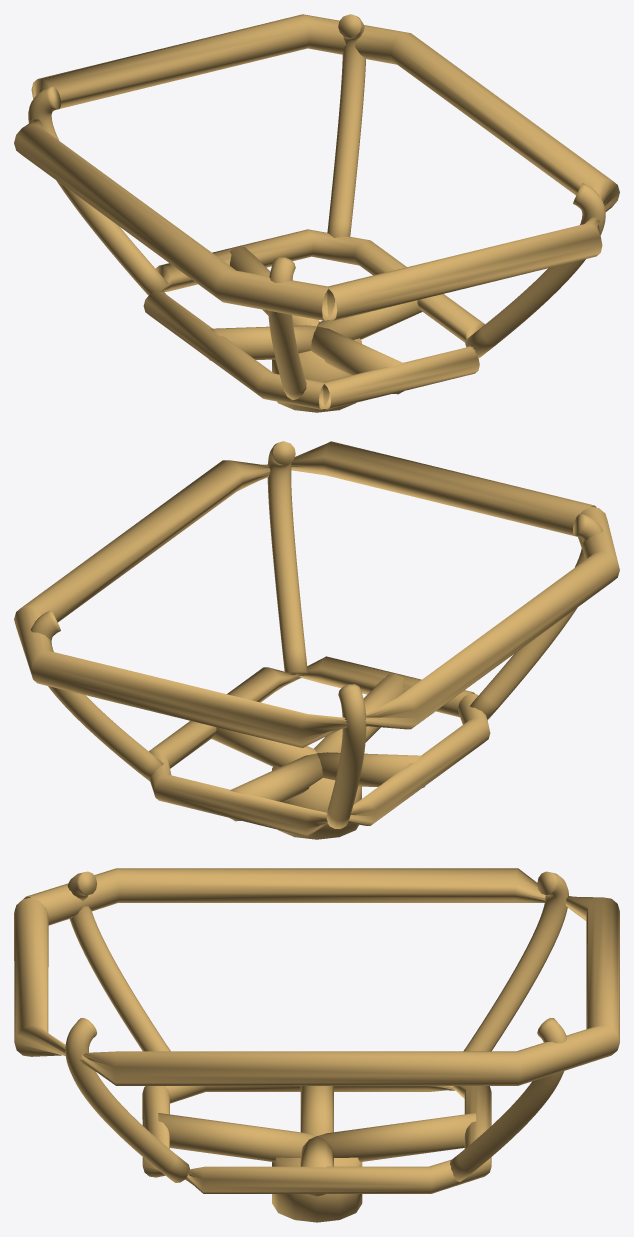
File: demo-emerald-bezel.glb
3 views of the same model, one above another, from view 1: azimuth 30°, elevation 25°; view 2: azimuth 150°, elevation 25°; view 3: azimuth 270°, elevation 25° (orthographic).
Visible parts, largest first — view 1: Metal.127, Metal.126, Metal.128, Metal.131, Metal.129, Metal.130, Metal.125, Metal.122, Metal.123, Metal.121, Metal.124; view 2: Metal.127, Metal.126, Metal.131, Metal.129, Metal.128, Metal.130, Metal.124, Metal.122, Metal.123, Metal.121, Metal.125; view 3: Metal.127, Metal.126, Metal.129, Metal.131, Metal.124, Metal.125, Metal.130, Metal.128, Metal.121, Metal.123, Metal.122.
Boxes of the visible parts, box(x1,y1,x2,y2) form: Metal.127: box(14, 14, 619, 320); Metal.126: box(143, 229, 484, 409); Metal.128: box(327, 14, 365, 237); Metal.131: box(465, 183, 605, 357); Metal.129: box(28, 87, 168, 295); Metal.130: box(268, 257, 306, 400); Metal.125: box(311, 326, 403, 394); Metal.122: box(317, 300, 422, 339); Metal.123: box(209, 325, 316, 360); Metal.121: box(272, 338, 361, 412); Metal.124: box(229, 247, 319, 326); Metal.127: box(14, 441, 619, 747); Metal.126: box(149, 656, 490, 836); Metal.131: box(267, 441, 307, 673); Metal.129: box(326, 684, 366, 828); Metal.128: box(30, 610, 163, 781); Metal.130: box(470, 514, 602, 719); Metal.124: box(230, 753, 322, 821); Metal.122: box(211, 727, 316, 766); Metal.123: box(317, 752, 424, 787); Metal.121: box(272, 765, 361, 839); Metal.125: box(314, 674, 403, 753); Metal.127: box(14, 868, 619, 1085); Metal.126: box(142, 1086, 491, 1193); Metal.129: box(455, 871, 568, 1087); Metal.131: box(65, 1018, 189, 1182); Metal.124: box(318, 1113, 476, 1161); Metal.125: box(158, 1113, 316, 1161); Metal.130: box(67, 871, 170, 1051); Metal.128: box(450, 1018, 566, 1181); Metal.121: box(272, 1157, 362, 1222); Metal.123: box(300, 1086, 333, 1135); Metal.122: box(300, 1136, 333, 1196).
Size of the model in its own units: 6.74 by 4.11 by 8.73.
